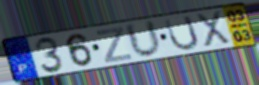3: (34, 36, 65, 74)
6: (65, 32, 95, 68)
U: (122, 19, 164, 60), (163, 14, 201, 53)
X: (194, 9, 234, 48)
Z: (95, 25, 134, 65)
